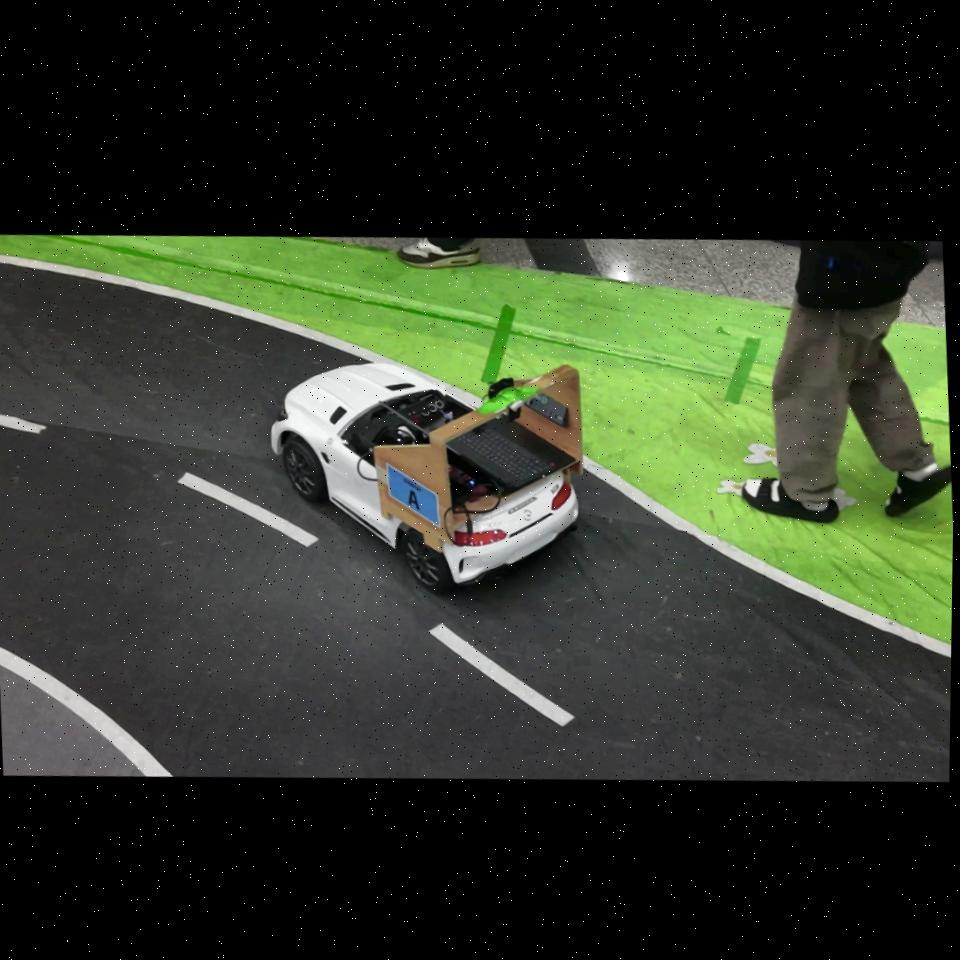broken_line: (428, 624, 576, 726), (177, 472, 320, 547), (0, 414, 48, 433)
